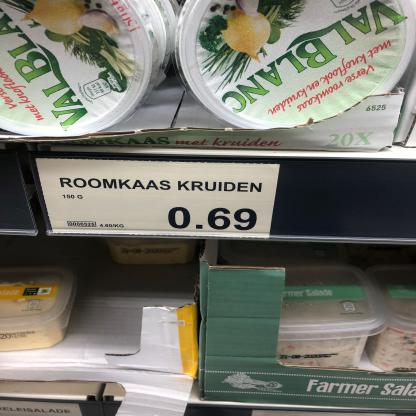prtg: (36, 159, 282, 239)
